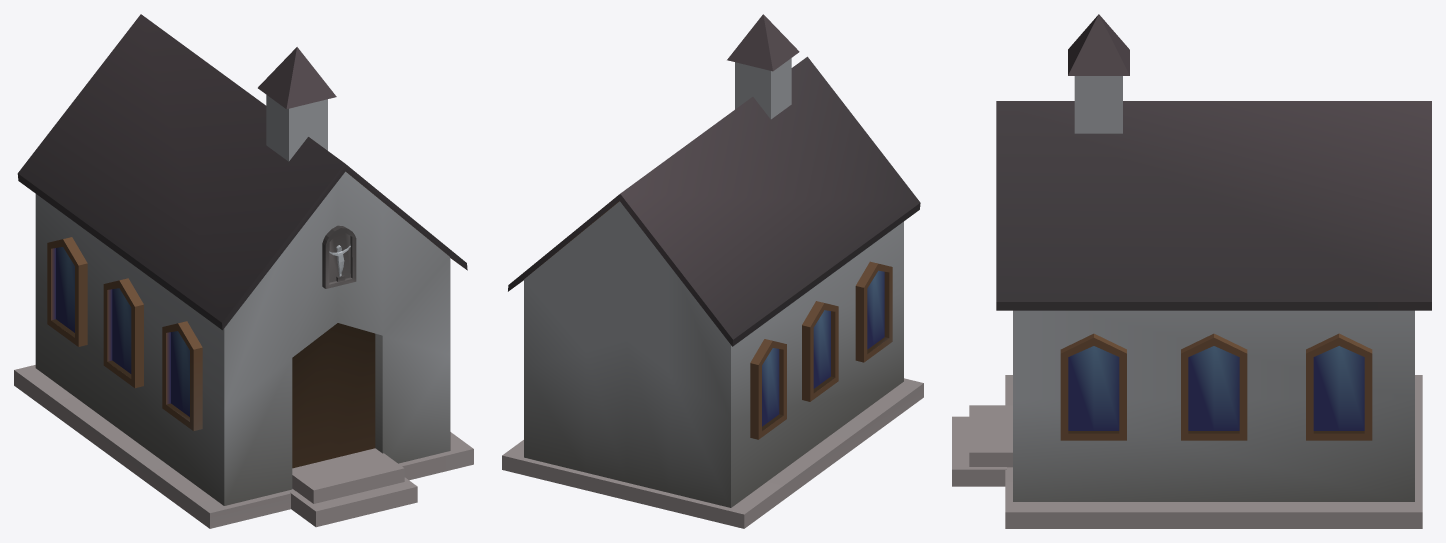
File: Catedral.fbx
3 views of the same model, side by side, from view 1: azimuth 30°, elevation 25°; view 2: azimuth 150°, elevation 25°; view 3: azimuth 270°, elevation 25° (orthographic). The views are drawn at different scales.
Parts seen in each view (by area): view 1: CapelaPedras; view 2: CapelaPedras; view 3: CapelaPedras.
Boxes of the visible parts, box(x1,y1,x2,y2) form: CapelaPedras: box(14, 14, 473, 528); CapelaPedras: box(502, 14, 923, 528); CapelaPedras: box(952, 14, 1431, 528).
Bounding box in the file's own units: 1051 × 1592 × 1553.
